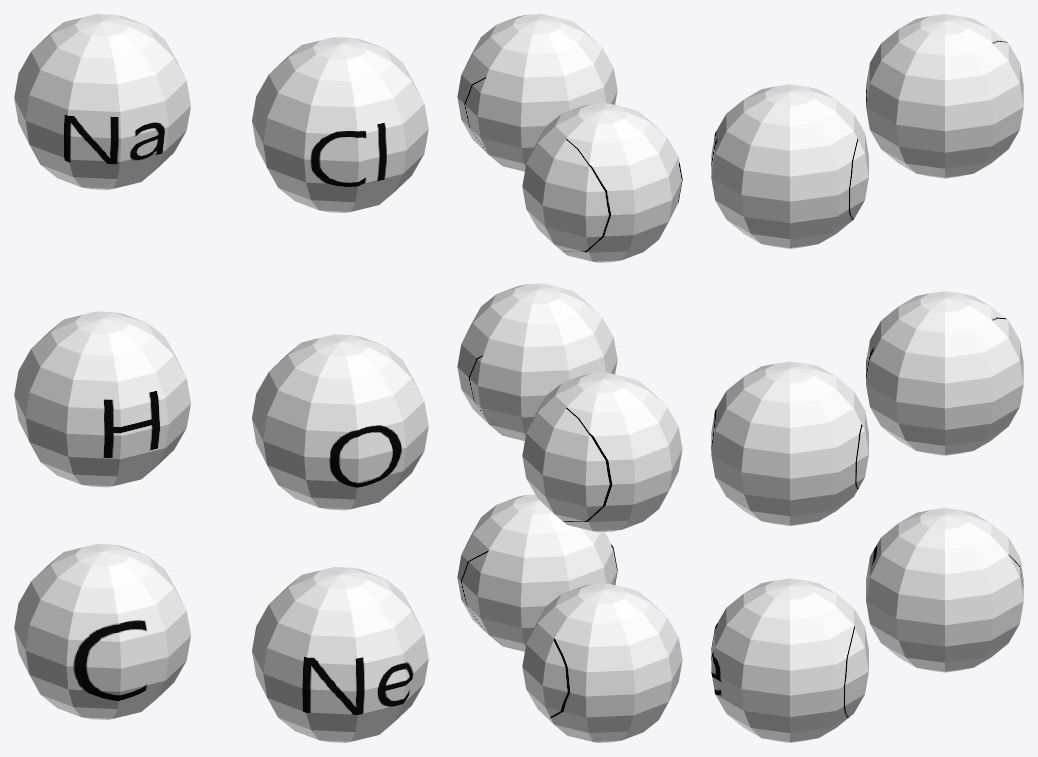
The model's file is elements.fbx.
3 renders of one model, left to right at view 1: azimuth 30°, elevation 25°; view 2: azimuth 150°, elevation 25°; view 3: azimuth 270°, elevation 25°, orthographic. The views are drawn at different scales.
Visible parts, largest first — view 1: pSphere3, pSphere4, pSphere2, pSphere6, pSphere1, pSphere5; view 2: pSphere1, pSphere4, pSphere6, pSphere3, pSphere2, pSphere5; view 3: pSphere4, pSphere2, pSphere6, pSphere1, pSphere5, pSphere3.
Boxes of the visible parts, left/top/right/bottom form: pSphere3: left=252, top=334, right=428, bottom=510; pSphere4: left=14, top=311, right=190, bottom=487; pSphere2: left=252, top=37, right=428, bottom=212; pSphere6: left=14, top=544, right=190, bottom=719; pSphere1: left=14, top=14, right=190, bottom=189; pSphere5: left=252, top=567, right=428, bottom=742; pSphere1: left=522, top=103, right=682, bottom=262; pSphere4: left=522, top=372, right=682, bottom=532; pSphere6: left=522, top=583, right=682, bottom=742; pSphere3: left=457, top=283, right=617, bottom=440; pSphere2: left=457, top=14, right=617, bottom=171; pSphere5: left=457, top=494, right=617, bottom=651; pSphere4: left=866, top=291, right=1023, bottom=455; pSphere2: left=711, top=84, right=868, bottom=248; pSphere6: left=866, top=508, right=1023, bottom=672; pSphere1: left=866, top=14, right=1023, bottom=178; pSphere5: left=711, top=578, right=868, bottom=742; pSphere3: left=711, top=361, right=868, bottom=525.
Bounding box in the file's own units: 9.43 × 20.16 × 8.86.
1 material, 1 textured.
